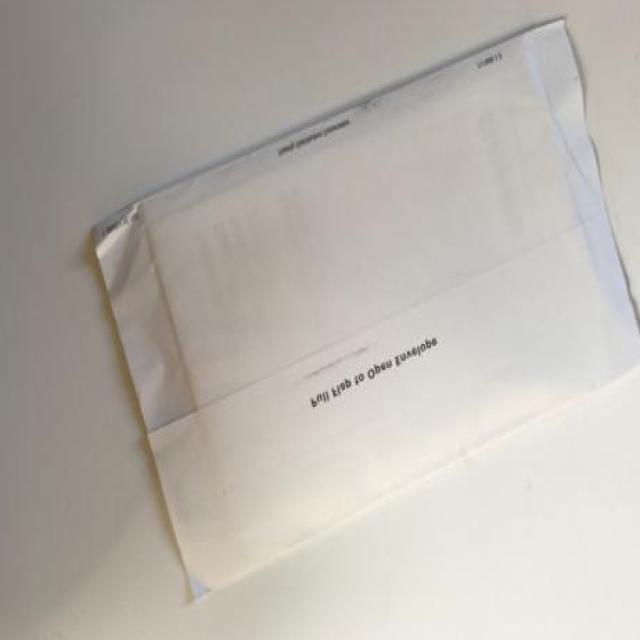kertas: (91, 15, 640, 604)
